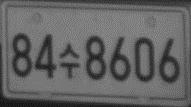0: (133, 37, 155, 83)
4: (33, 32, 58, 79)
6: (108, 35, 131, 81), (158, 37, 181, 83)
8: (10, 32, 32, 78), (85, 35, 107, 81)
수: (57, 41, 81, 79)
